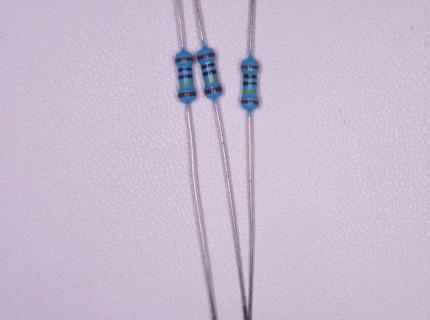Black band: (201, 70, 217, 77), (201, 62, 216, 69), (178, 73, 193, 80), (178, 67, 193, 73), (243, 74, 257, 80), (243, 81, 257, 87)
Brown band: (204, 85, 224, 95), (196, 52, 215, 61), (174, 56, 194, 64), (178, 91, 197, 98), (241, 98, 259, 104), (241, 66, 259, 71)
Yellow band: (203, 77, 218, 85), (179, 82, 193, 87), (243, 89, 257, 93)
